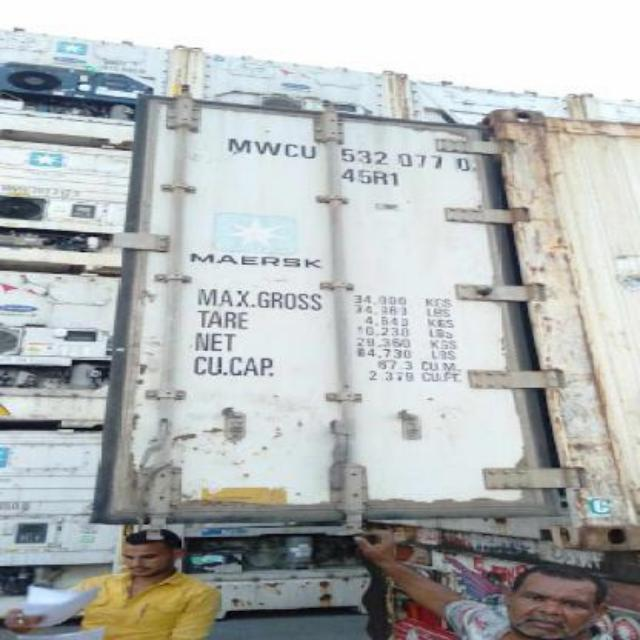0: (394, 151, 414, 167), (454, 157, 472, 173)
2: (372, 149, 392, 167)
3: (356, 148, 374, 164)
5: (338, 147, 358, 163)
7: (414, 151, 430, 167), (428, 154, 446, 168)
C: (282, 140, 302, 158)
M: (224, 136, 252, 154)
U: (300, 143, 320, 161)
W: (252, 137, 284, 155)
